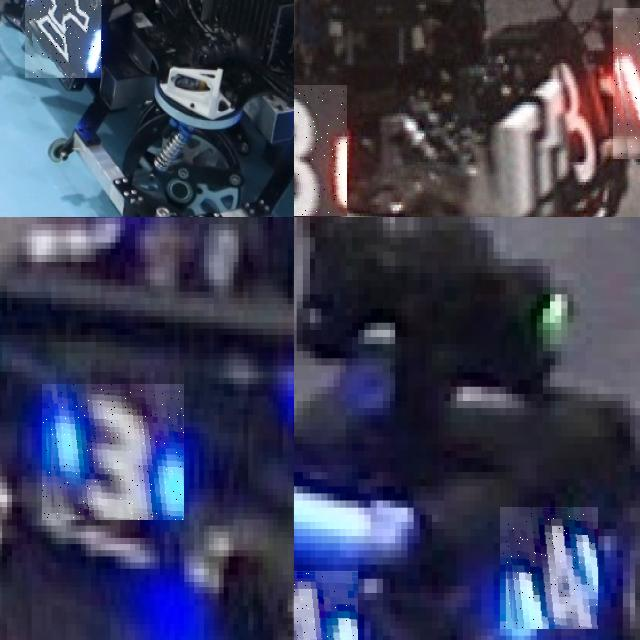B3: (42, 384, 184, 520)
B4: (500, 507, 598, 629), (294, 571, 358, 640)
Bs: (25, 0, 103, 78)
R3: (294, 84, 347, 216)
R4: (613, 7, 640, 159)
